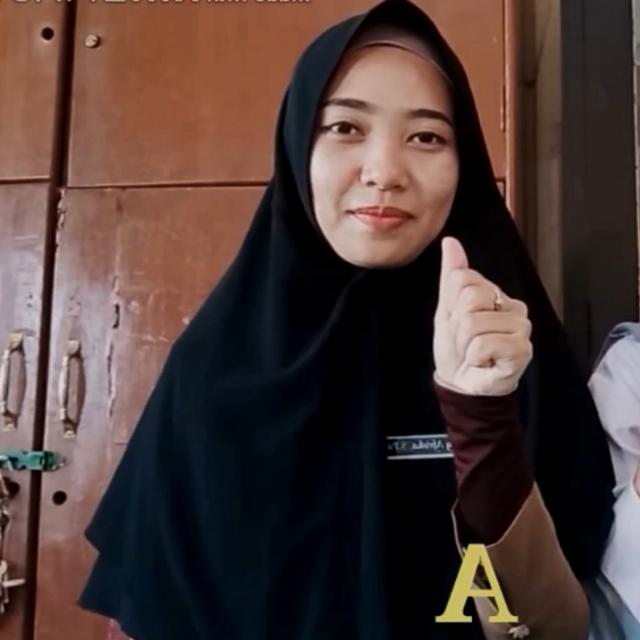A: (430, 234, 538, 406)
